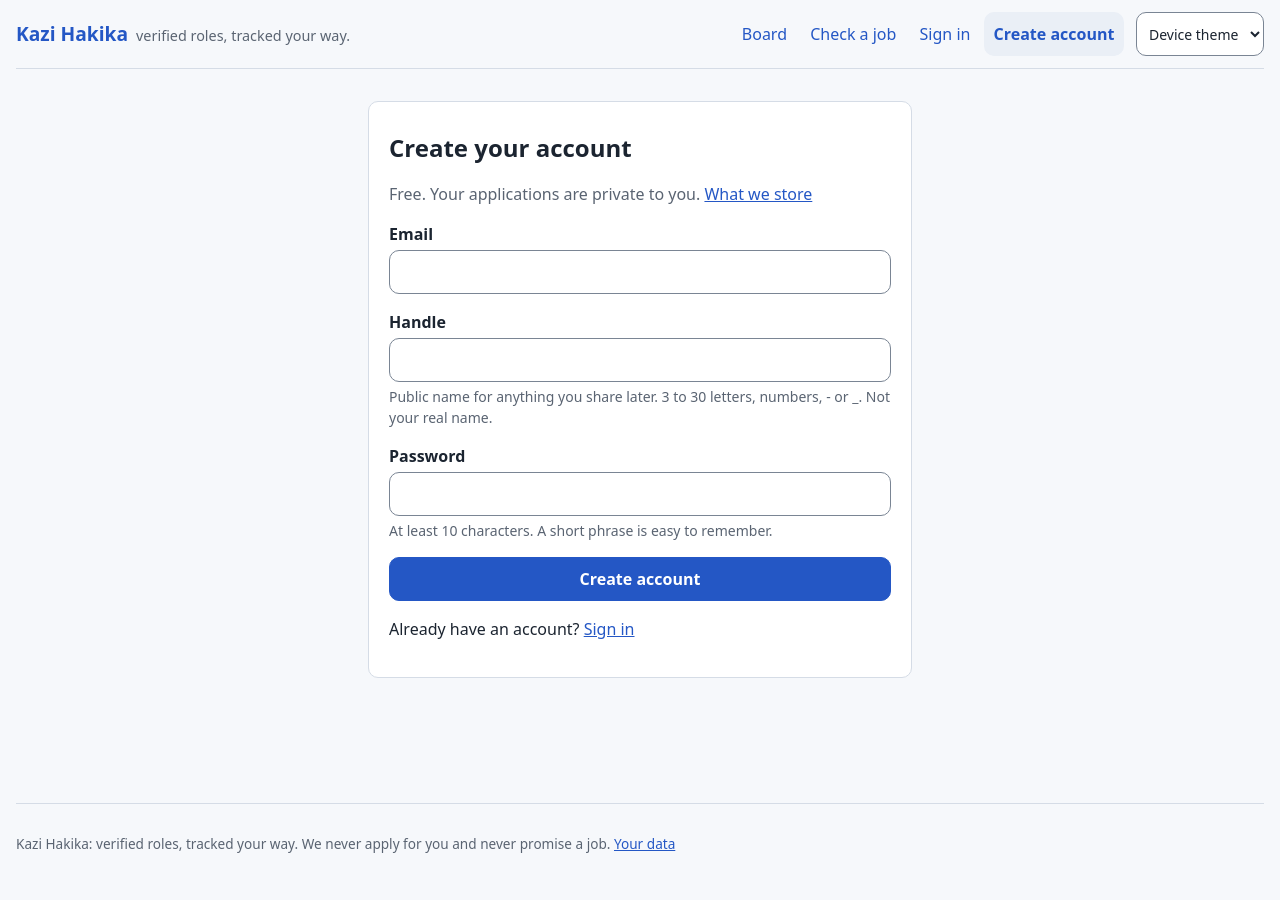
Test: sign-up › shows "check your email" after signing up
The image size is (1280, 900).
Type "amina@example.com" into the field labelled "Email" at (640, 272), box [389, 250, 891, 294]
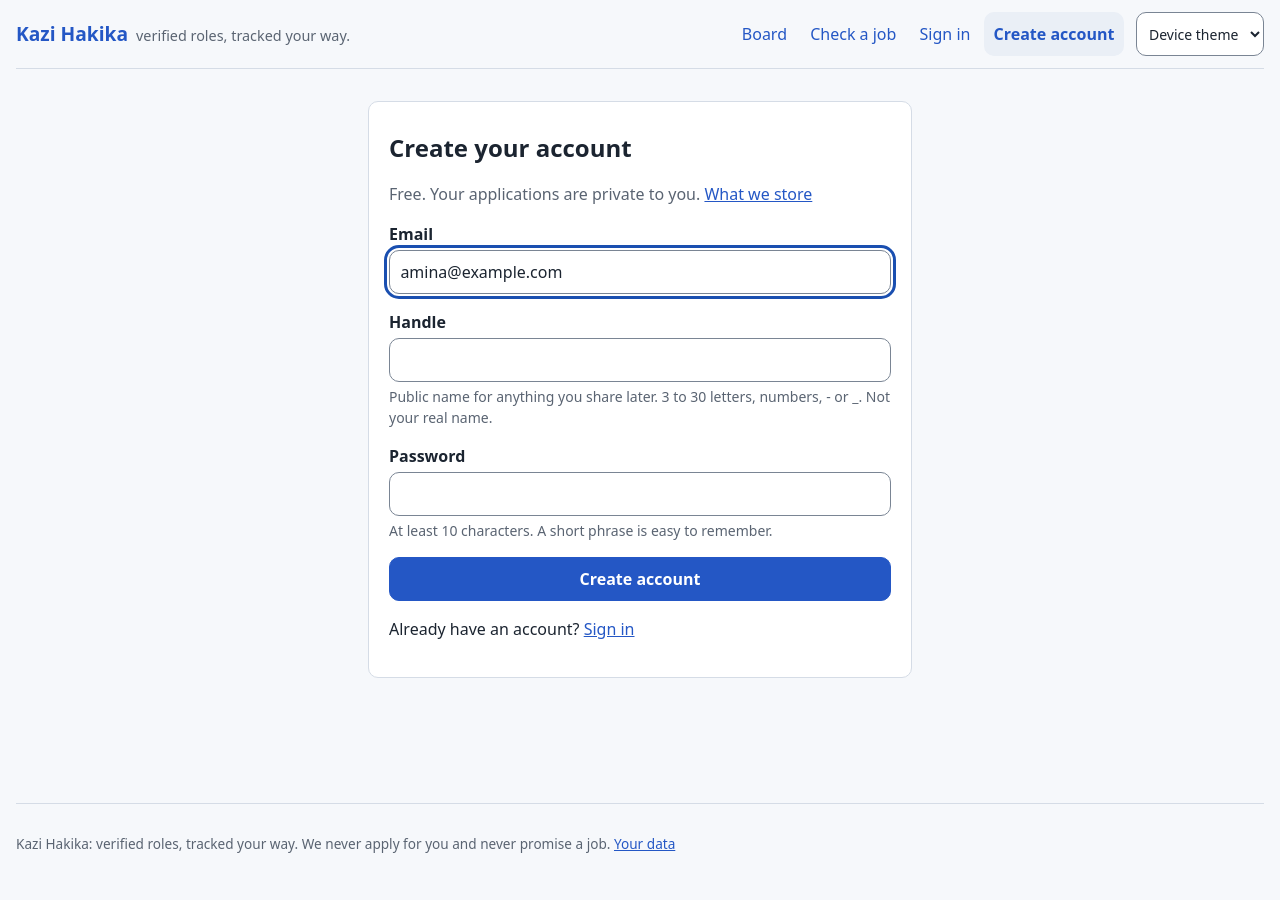
Type "amina" into the field labelled "Handle" at (640, 360), box [389, 338, 891, 382]
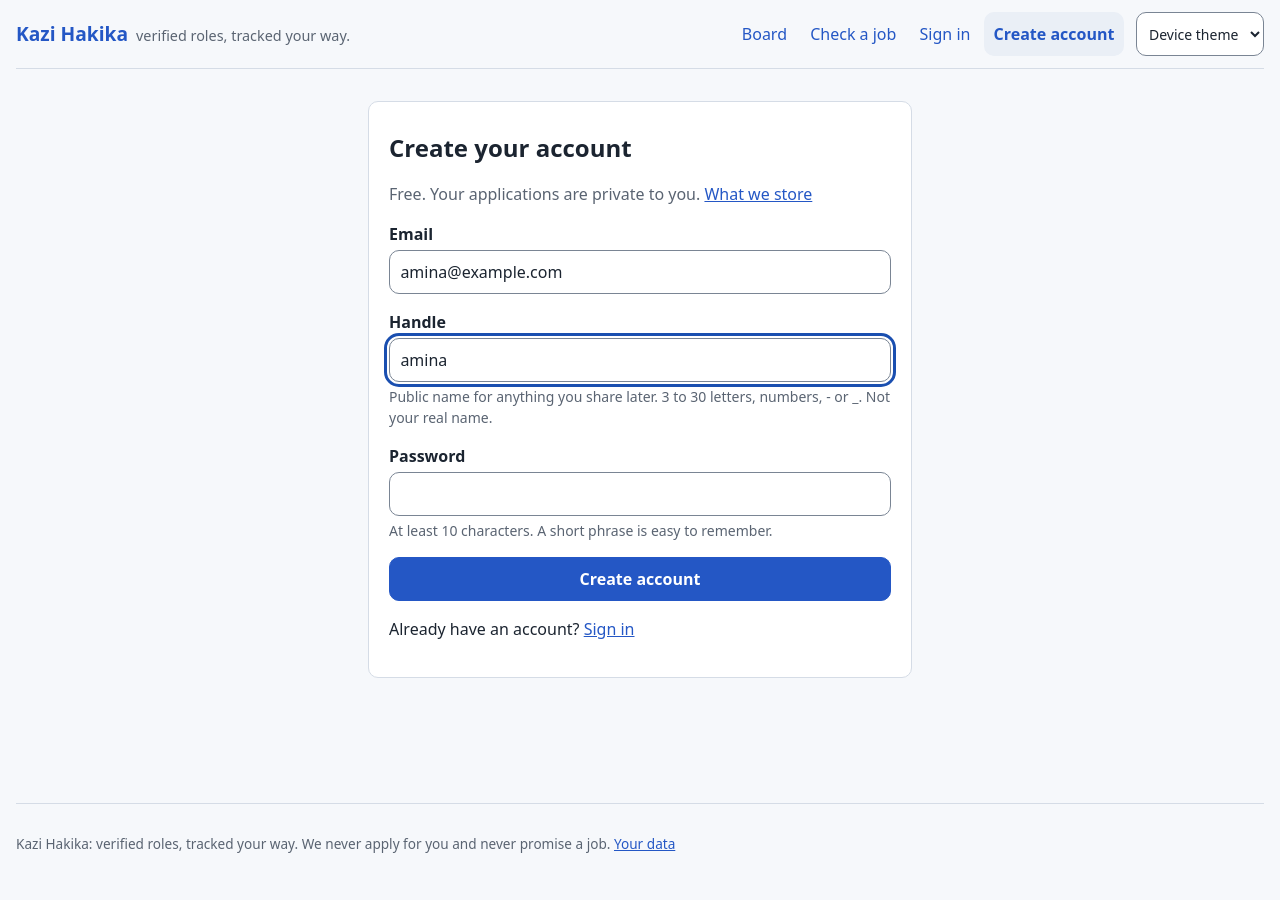
Type "correct horse battery" into the password field labelled "Password" at (640, 494), box [389, 472, 891, 516]
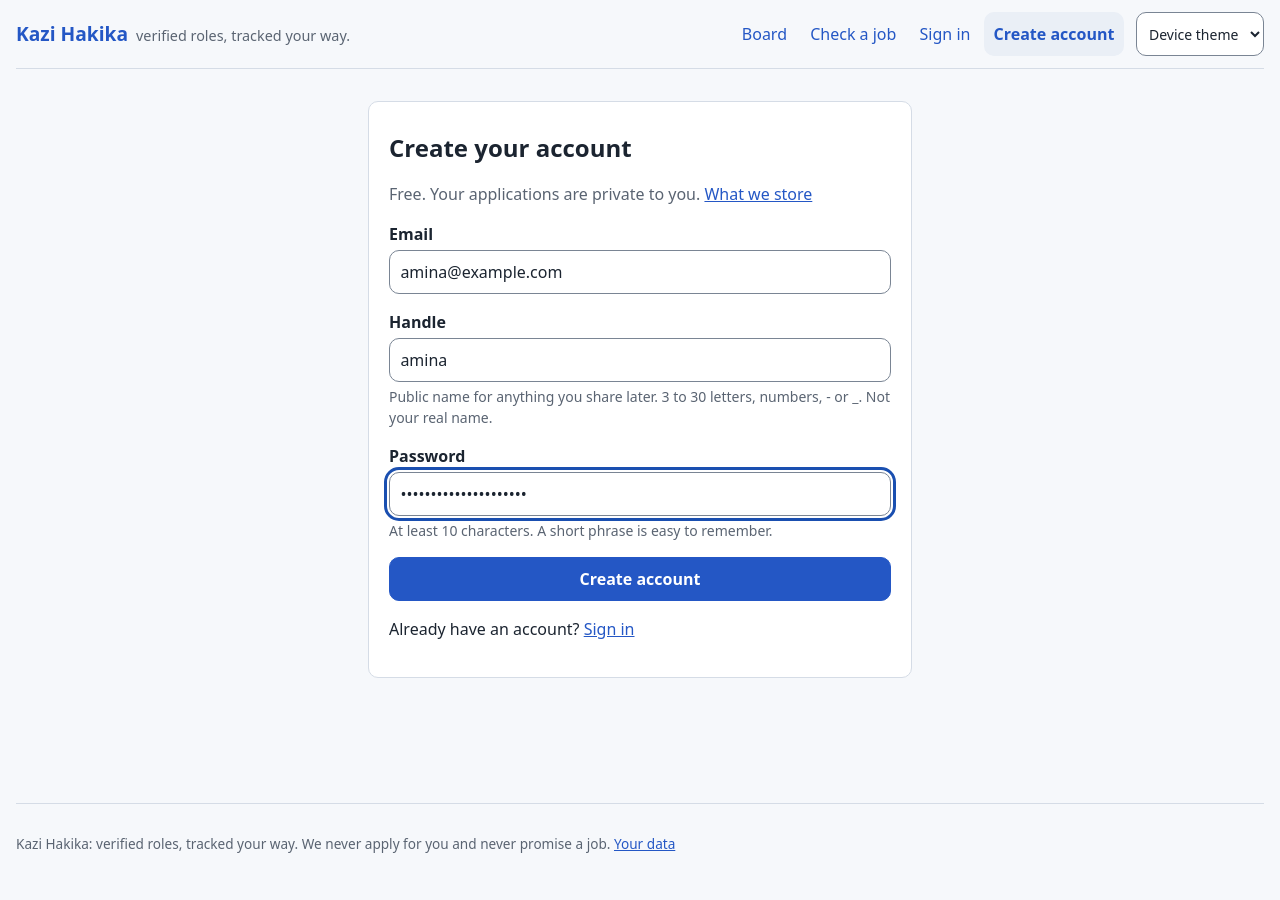
Click the button "Create account" at (640, 579), box [389, 557, 891, 601]
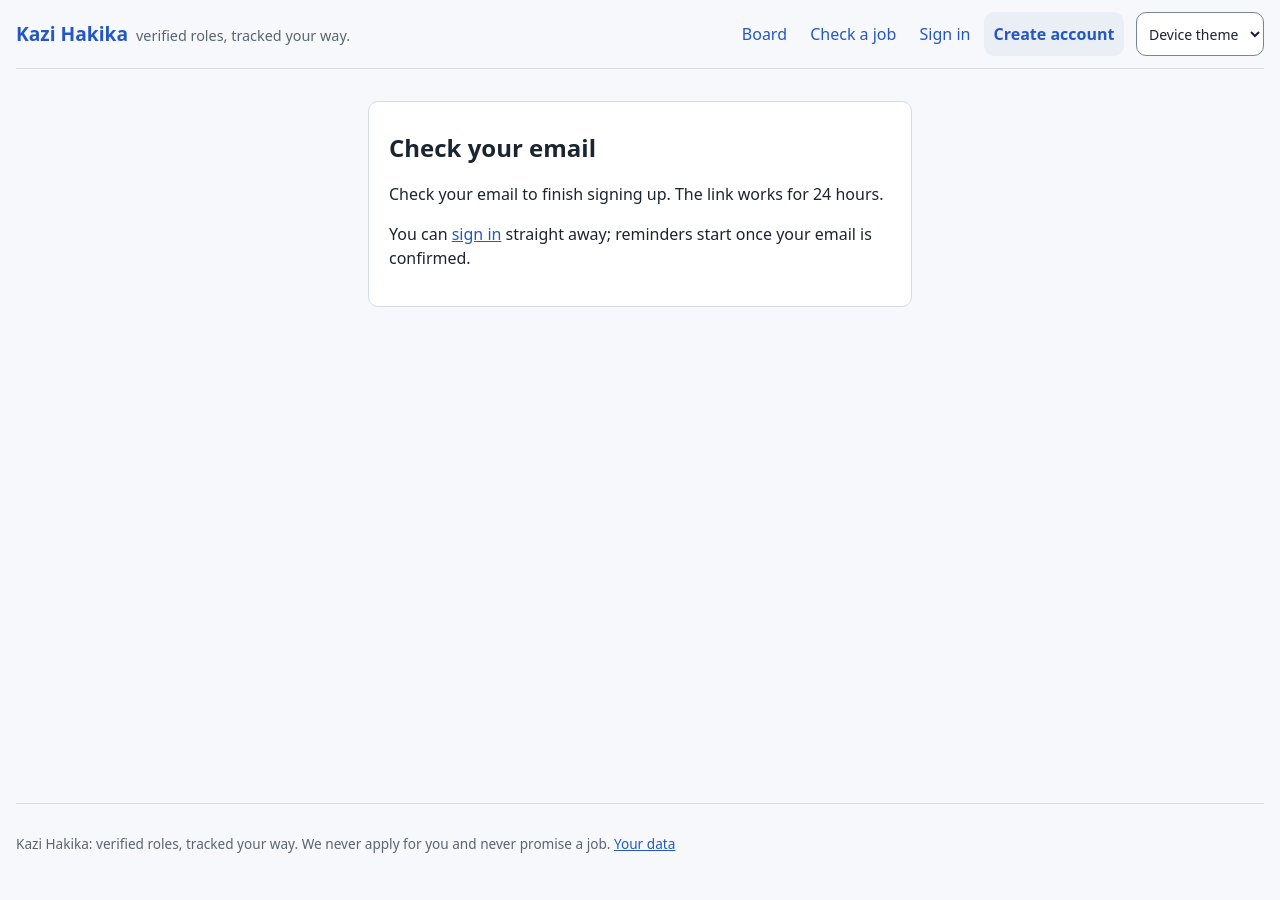
Expected: the heading "Check your email" is shown, [389, 131, 596, 164]
